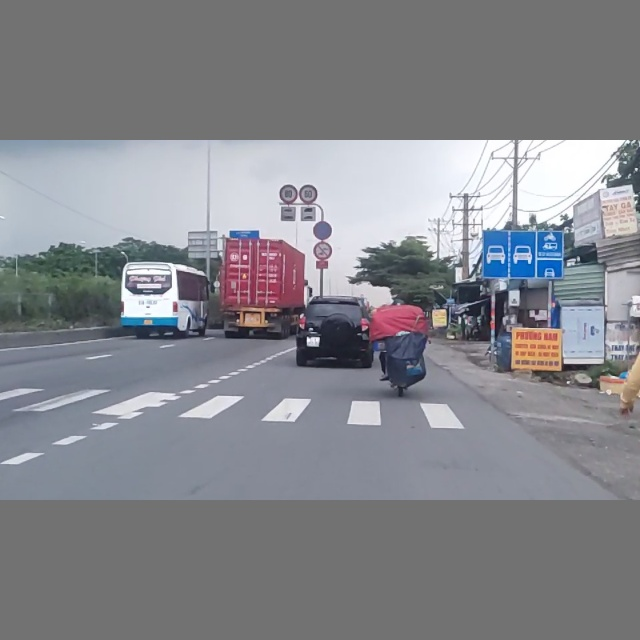P.111: (313, 241, 333, 260)
P.127*60: (300, 185, 318, 204)
P.127*80: (280, 185, 297, 203)
P.130: (313, 221, 333, 240)
R.415a: (483, 229, 564, 279)
